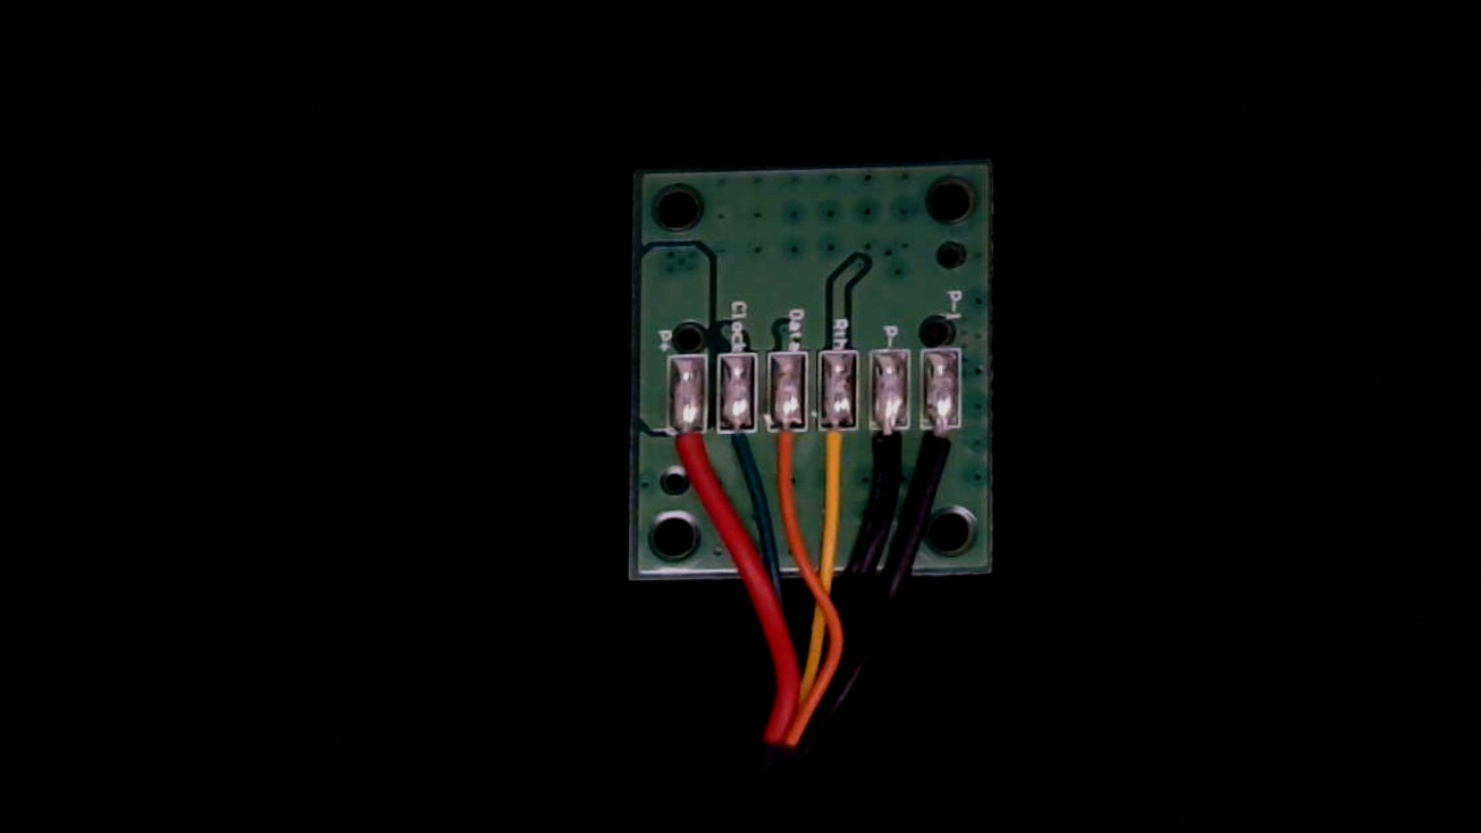Black: (867, 405, 911, 498)
Black1: (928, 405, 966, 493)
Green: (720, 409, 757, 487)
Orange: (768, 408, 811, 499)
Red: (668, 411, 710, 495)
Yellow: (814, 408, 858, 502)
